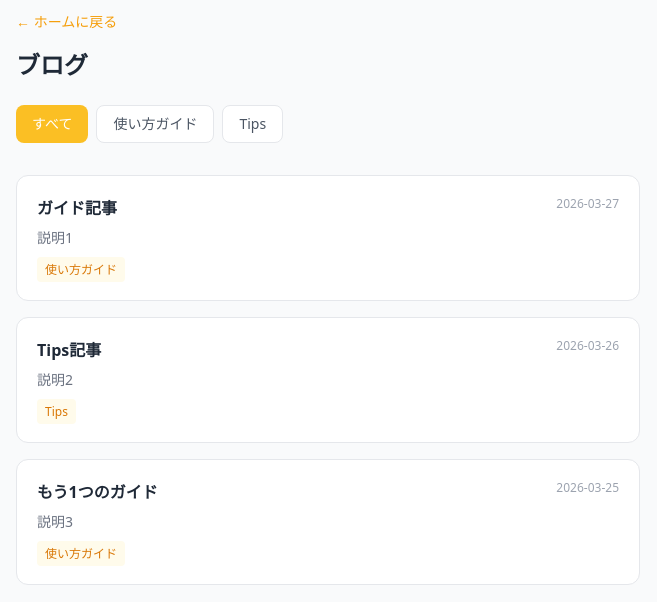
BlogListPage › Tipsタブでフィルタリングされる
Step 1. Click the tab "Tips" → (253, 124), box 222,105 -> 283,143
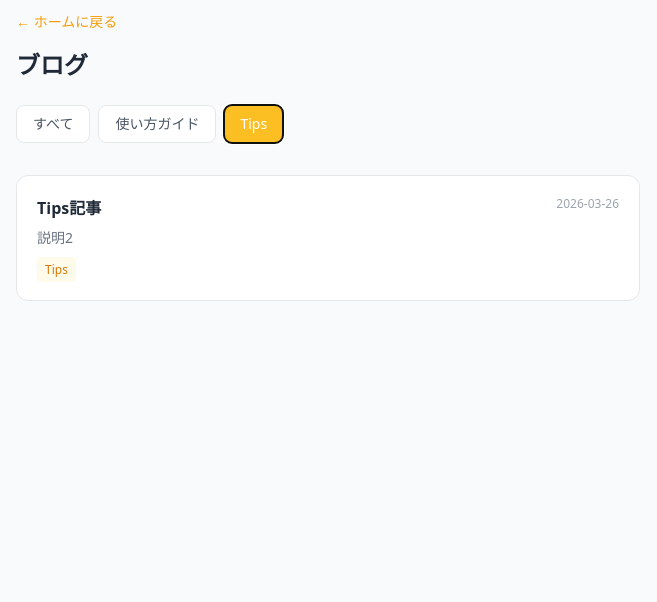
expect the heading "Tips記事" is shown: met, box 37,196 -> 101,220
expect the link "ガイド記事" is gone: met
